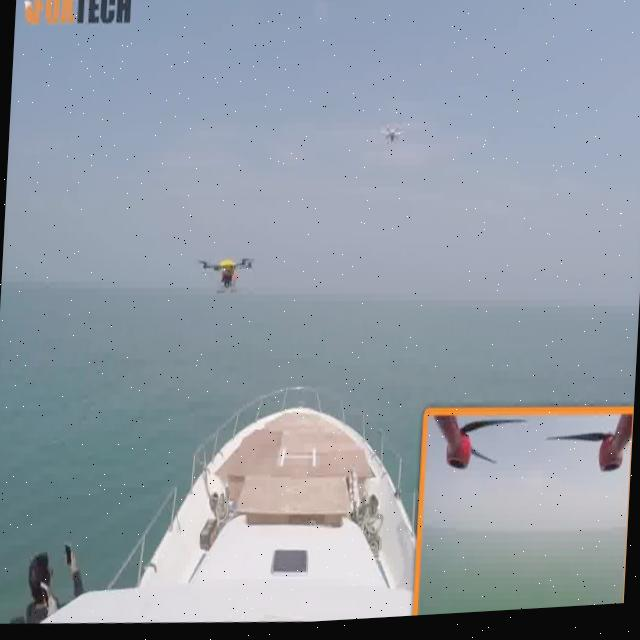drone: (195, 244, 259, 311), (374, 119, 412, 160)
